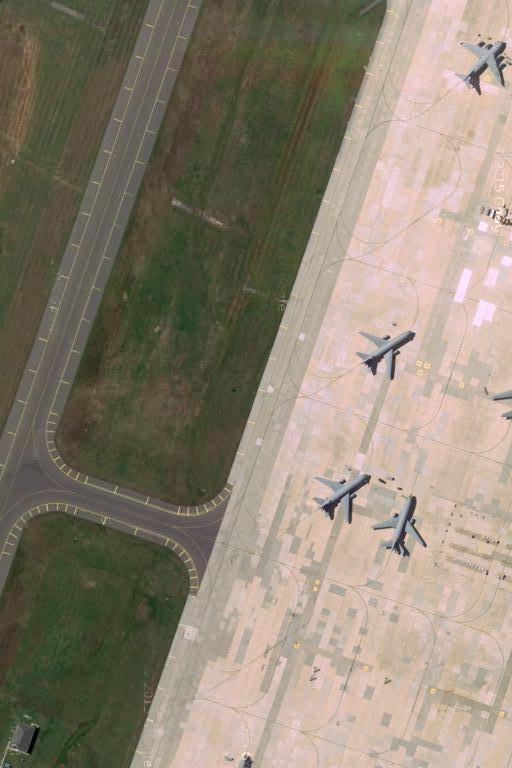C-17: (455, 32, 510, 99)
KC-10: (355, 323, 418, 387), (313, 468, 372, 528), (377, 493, 430, 557)
